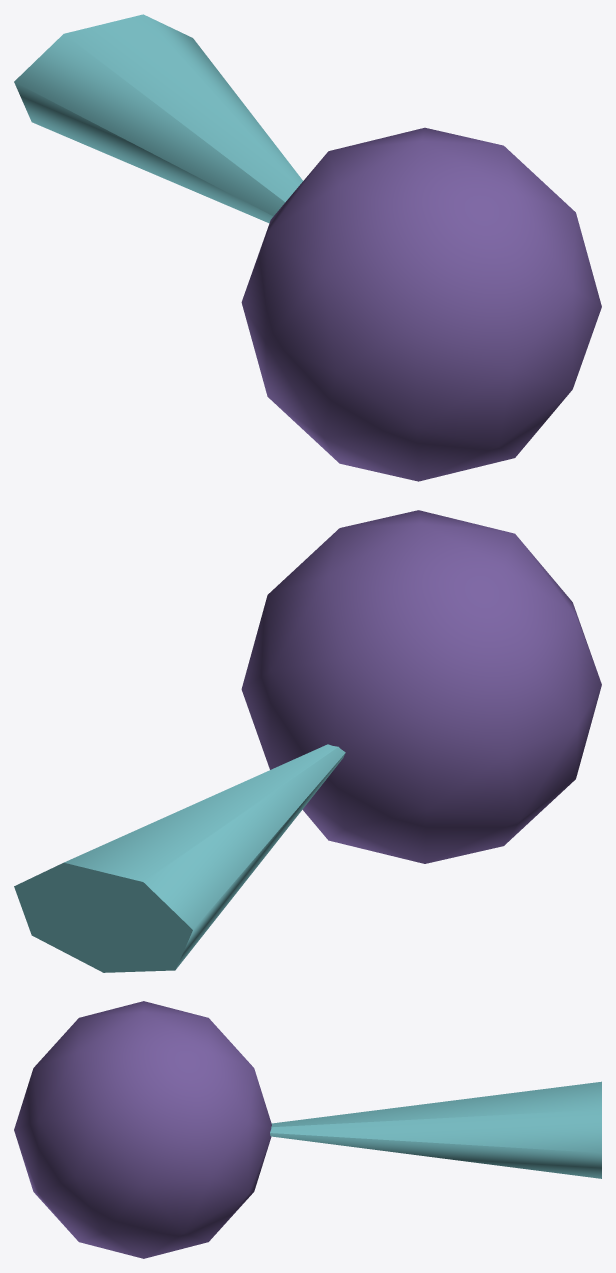
The model's file is wpn_r_07.glb.
The picture shows the model from 3 angles, top to bottom: view 1: azimuth 30°, elevation 25°; view 2: azimuth 150°, elevation 25°; view 3: azimuth 270°, elevation 25°; orthographic projection. The views are drawn at different scales.
Visible parts, largest first — view 1: projectile_core, projectile_trail; view 2: projectile_core, projectile_trail; view 3: projectile_core, projectile_trail.
Boxes of the visible parts, x1,y1,x2,y2 form: projectile_core: (241,127,601,481); projectile_trail: (14,14,302,223); projectile_core: (241,510,601,863); projectile_trail: (14,744,345,972); projectile_core: (14,1001,271,1258); projectile_trail: (270,1081,601,1178).
Bounding box in the file's own units: 0.34 × 0.34 × 0.77.
